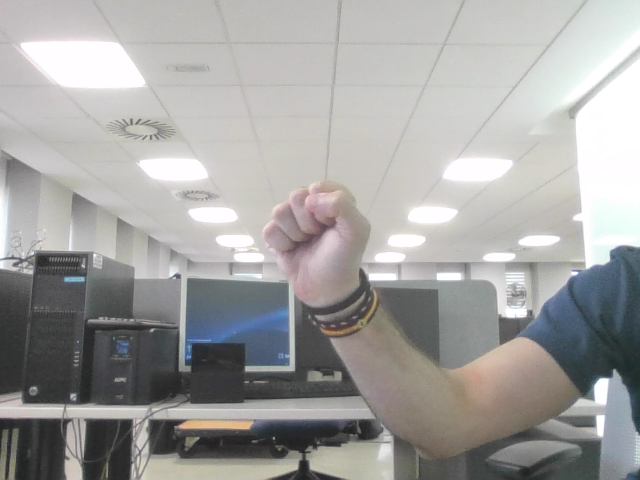Puño: (275, 190, 351, 264)
